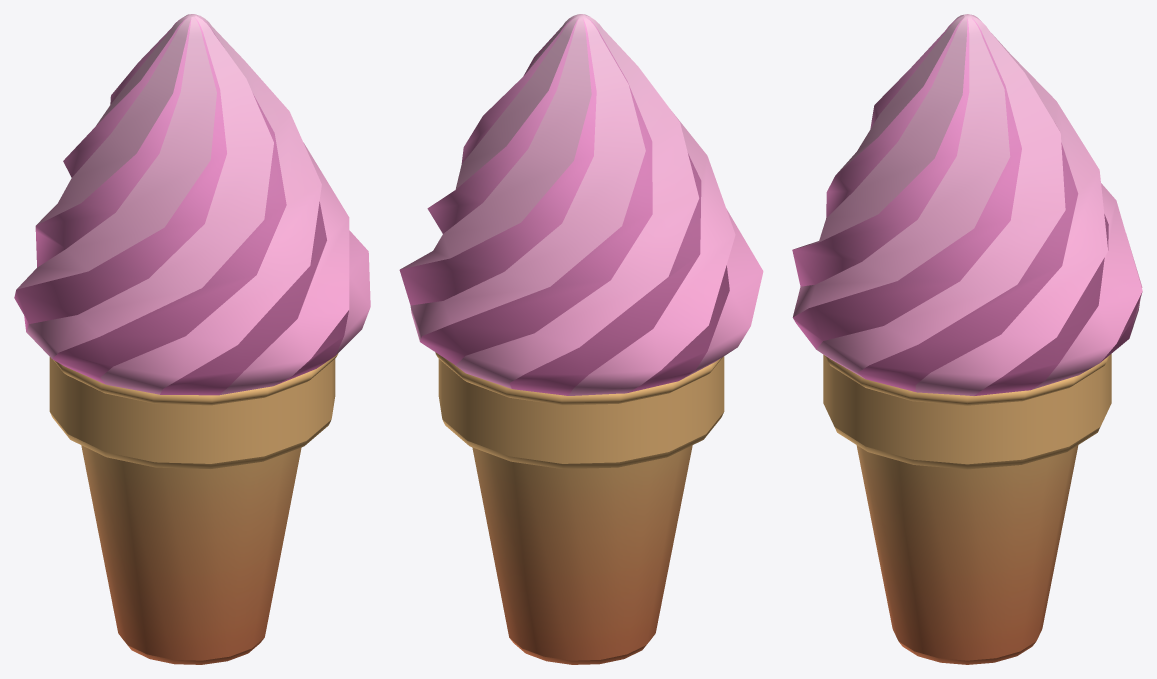
Rendered from Icecream_V2_01.fbx.
3 renders of one model, left to right at view 1: azimuth 30°, elevation 25°; view 2: azimuth 150°, elevation 25°; view 3: azimuth 270°, elevation 25°, orthographic.
Parts seen in each view (by area): view 1: Icecream_V2_01; view 2: Icecream_V2_01; view 3: Icecream_V2_01.
Part boxes in pixels (x1,y1,x2,y2): Icecream_V2_01: (14,14,370,664); Icecream_V2_01: (399,14,763,664); Icecream_V2_01: (792,14,1142,664).
Size of the model in its own units: 27.73 by 54.33 by 27.73.
